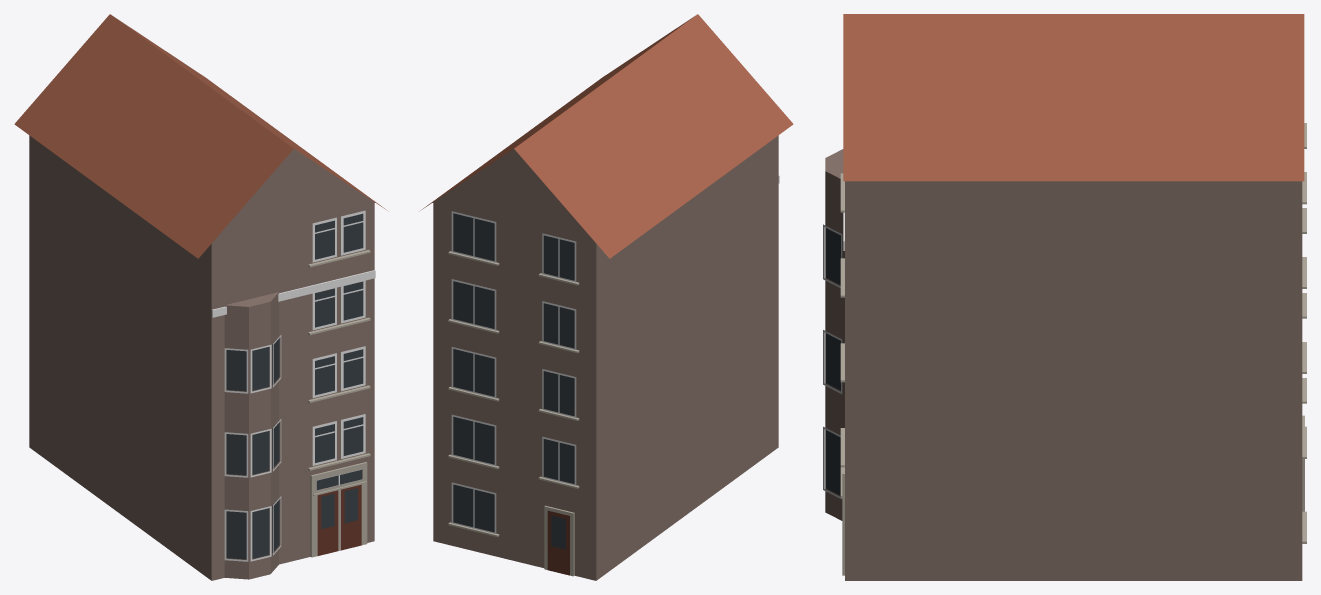
File: we-pk-bay__brown__5__gable__short__solid__f0d0.glb
3 views of the same model, side by side, from view 1: azimuth 30°, elevation 25°; view 2: azimuth 150°, elevation 25°; view 3: azimuth 270°, elevation 25° (orthographic). The views are drawn at different scales.
Parts seen in each view (by area): view 1: we-pk-bay__brown__5__gable__short__solid__f0d0; view 2: we-pk-bay__brown__5__gable__short__solid__f0d0; view 3: we-pk-bay__brown__5__gable__short__solid__f0d0.
Boxes of the visible parts, x1=… form: we-pk-bay__brown__5__gable__short__solid__f0d0: x1=14, y1=14, x2=387, y2=580; we-pk-bay__brown__5__gable__short__solid__f0d0: x1=420, y1=14, x2=793, y2=580; we-pk-bay__brown__5__gable__short__solid__f0d0: x1=823, y1=14, x2=1306, y2=580.
Size of the model in its own units: 7.39 by 15.23 by 12.93.
